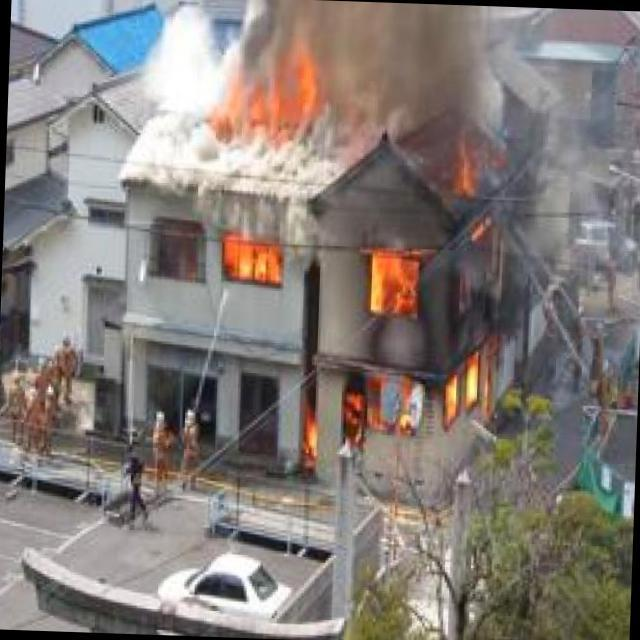Fire: (343, 140, 526, 458), (212, 51, 327, 153), (212, 217, 291, 292)
